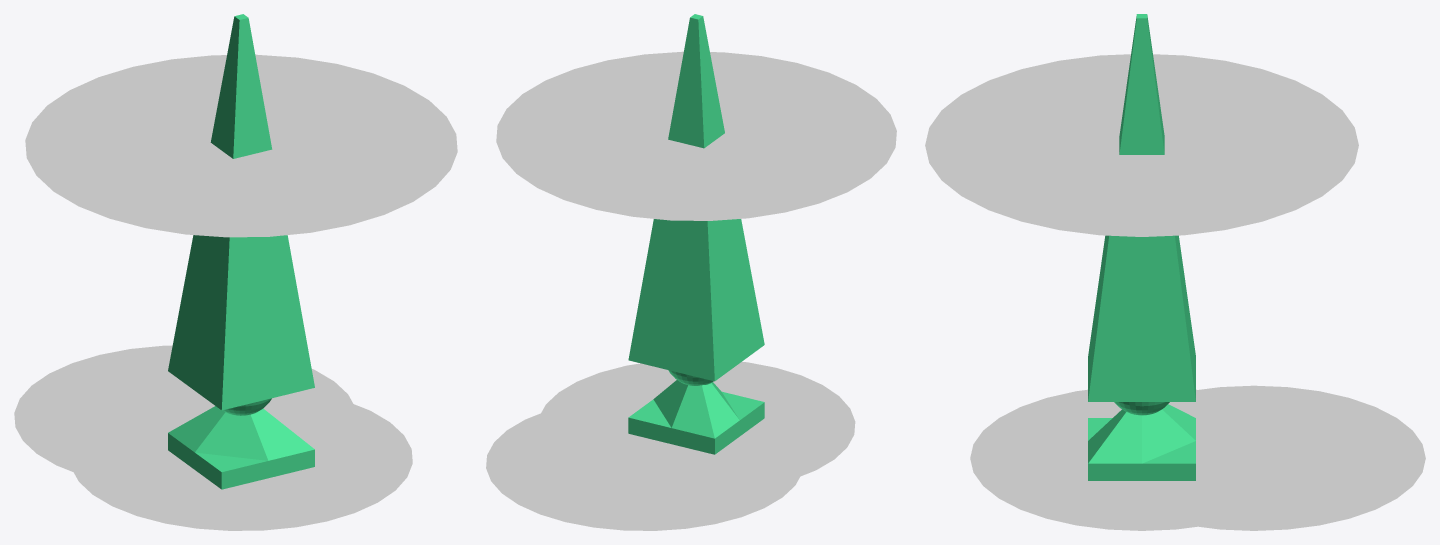
Rendered from obelisk.gltf.
3 views of the same model, side by side, from view 1: azimuth 30°, elevation 25°; view 2: azimuth 150°, elevation 25°; view 3: azimuth 270°, elevation 25° (orthographic). The views are drawn at different scales.
Visible parts, largest first — view 1: capsule-top, Cube, capsule-bottom, capsule-radius; view 2: capsule-top, Cube, capsule-radius, capsule-bottom; view 3: capsule-top, capsule-radius, Cube, capsule-bottom.
Part boxes in pixels (<box>): capsule-top: <box>25,54,457,237</box>; Cube: <box>168,14,314,489</box>; capsule-bottom: <box>73,389,412,530</box>; capsule-radius: <box>14,345,356,489</box>; capsule-top: <box>496,51,896,220</box>; Cube: <box>628,14,764,454</box>; capsule-radius: <box>486,396,803,530</box>; capsule-bottom: <box>541,361,855,492</box>; capsule-top: <box>925,54,1358,236</box>; capsule-radius: <box>1082,385,1425,530</box>; Cube: <box>1088,14,1195,480</box>; capsule-bottom: <box>970,389,1313,530</box>.
Size of the model in its own units: 3.88 by 4.36 by 4.47.
